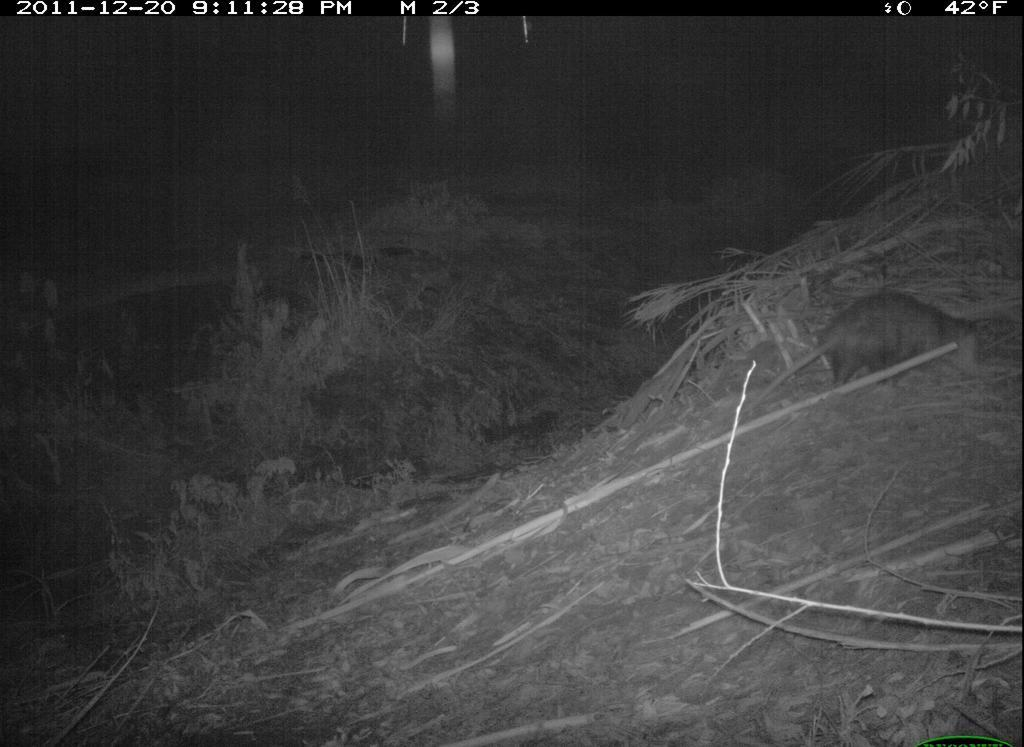opossum: (735, 285, 1012, 422)
